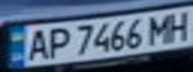4: (90, 19, 115, 53)
6: (124, 16, 151, 50), (109, 17, 130, 52)
7: (69, 21, 97, 56)
A: (21, 26, 51, 62)
H: (163, 8, 193, 43)
M: (145, 11, 178, 45)
P: (42, 25, 72, 60)
